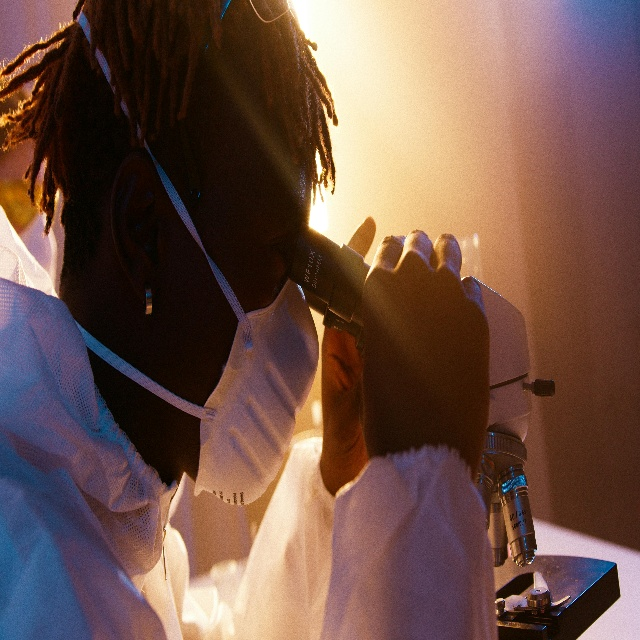Gafas: (181, 0, 304, 197)
Mascara: (191, 257, 315, 525)
Sin_guantes: (363, 226, 491, 490), (321, 210, 383, 489)
